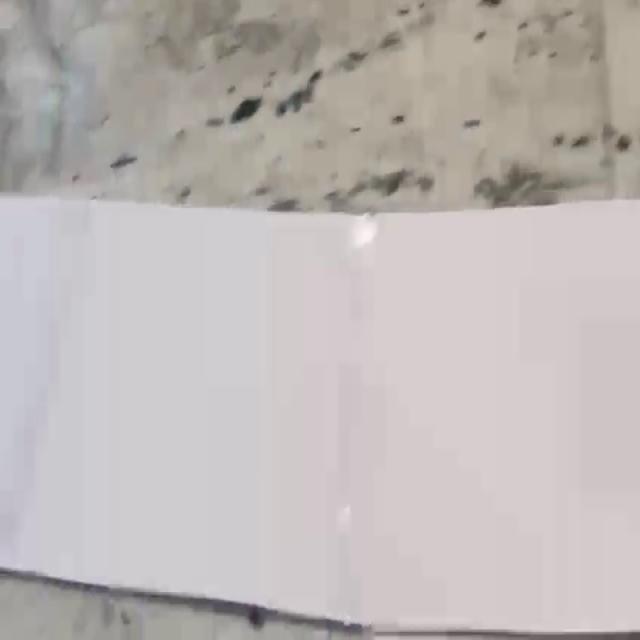road: (0, 195, 640, 636)
